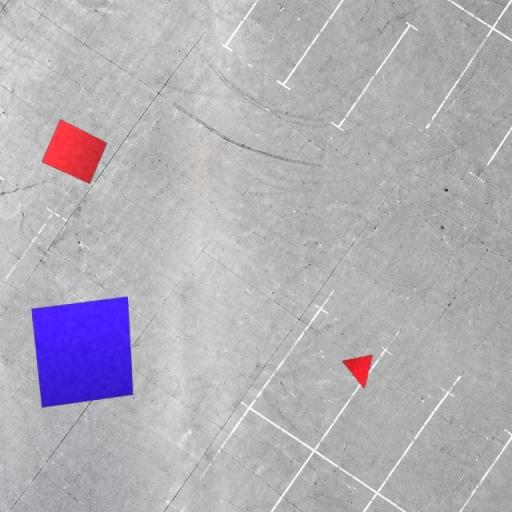BLUE_SQUARE: (30, 296, 134, 408)
RED_SQUARE: (41, 118, 108, 185)
